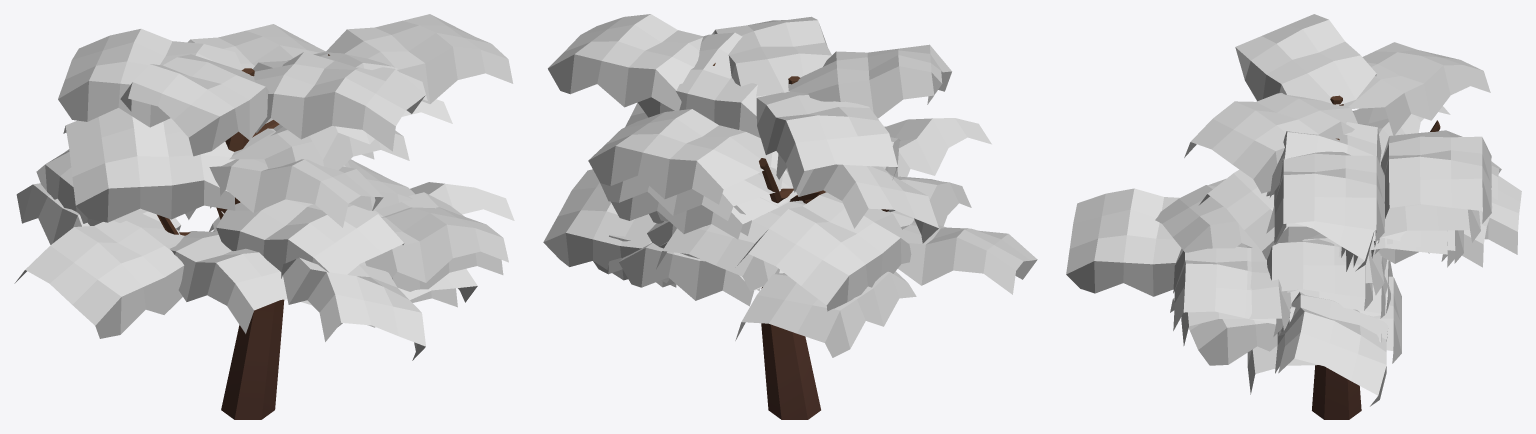
Rendered from hareket edecek ağaç.fbx.
3 renders of one model, left to right at view 1: azimuth 30°, elevation 25°; view 2: azimuth 150°, elevation 25°; view 3: azimuth 270°, elevation 25°, orthographic. The views are drawn at different scales.
Parts seen in each view (by area): view 1: eefc9e53-0a11-40e6-8cf6-4fd6d9bc3302.032; view 2: eefc9e53-0a11-40e6-8cf6-4fd6d9bc3302.032; view 3: eefc9e53-0a11-40e6-8cf6-4fd6d9bc3302.032.
Part boxes in pixels (x1,y1,x2,y2): eefc9e53-0a11-40e6-8cf6-4fd6d9bc3302.032: [14, 14, 514, 419]; eefc9e53-0a11-40e6-8cf6-4fd6d9bc3302.032: [543, 14, 1037, 419]; eefc9e53-0a11-40e6-8cf6-4fd6d9bc3302.032: [1066, 14, 1521, 419].
Size of the model in its own units: 1980 by 1528 by 1829.
2 materials, 1 textured.
